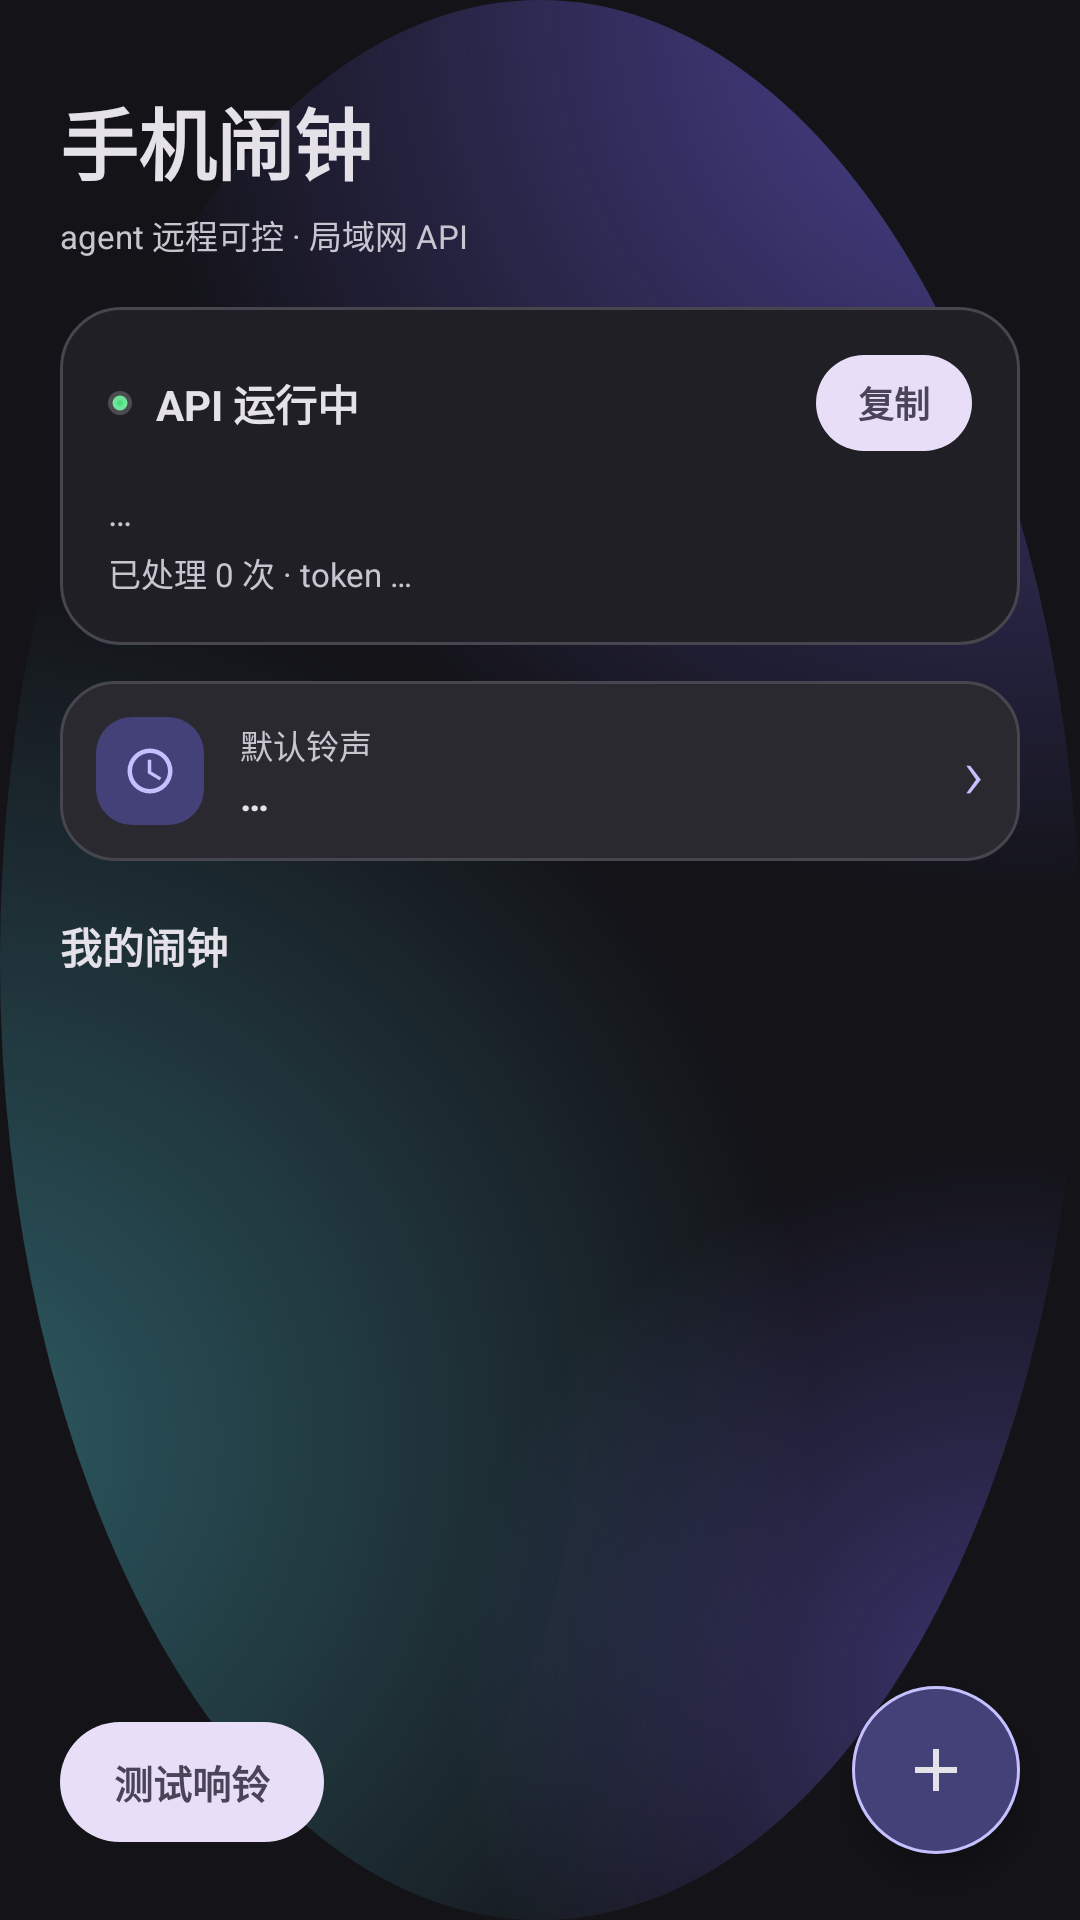

Icons on this 1080 × 1920 Android screen, each with the point to tap as (x=x, y=y):
add: (x=936, y=1770)
